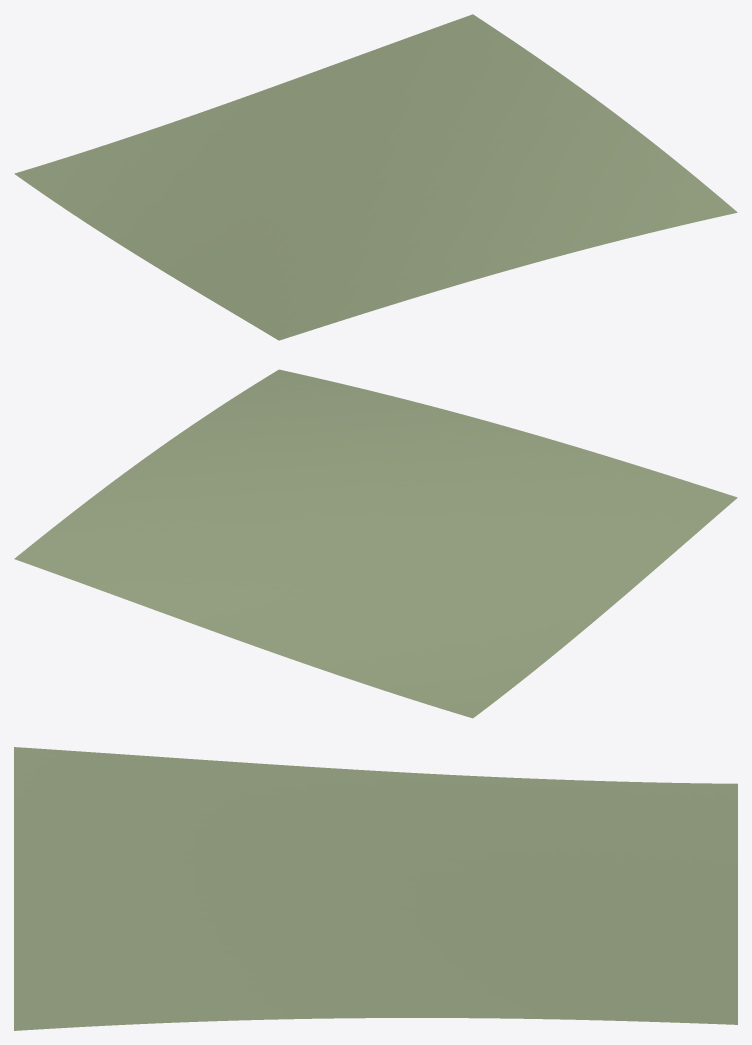
File: alpine-15-1.glb
3 renders of one model, top to bottom at view 1: azimuth 30°, elevation 25°; view 2: azimuth 150°, elevation 25°; view 3: azimuth 270°, elevation 25°, orthographic. The views are drawn at different scales.
Parts seen in each view (by area): view 1: alpine-15-1; view 2: alpine-15-1; view 3: alpine-15-1.
Boxes of the visible parts, x1,y1,x2,y2 form: alpine-15-1: (14, 14, 737, 340); alpine-15-1: (14, 369, 737, 718); alpine-15-1: (14, 747, 737, 1030).
Size of the model in its own units: 256 by 28.02 by 256.
